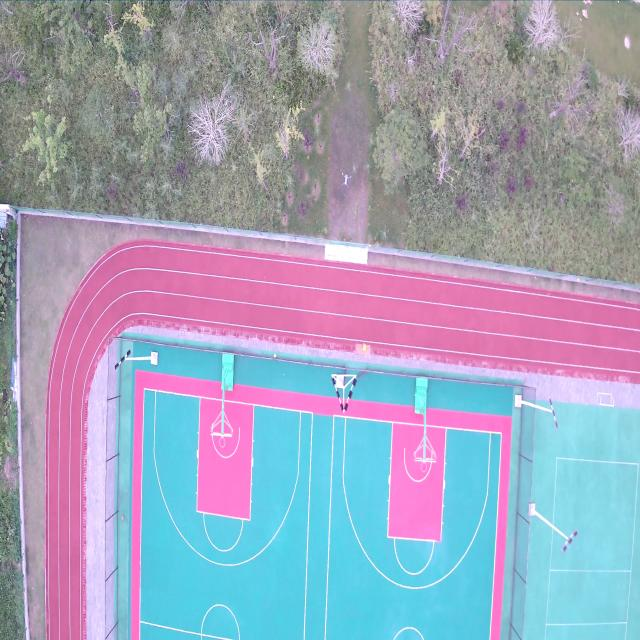UAV: (340, 171, 352, 190)
